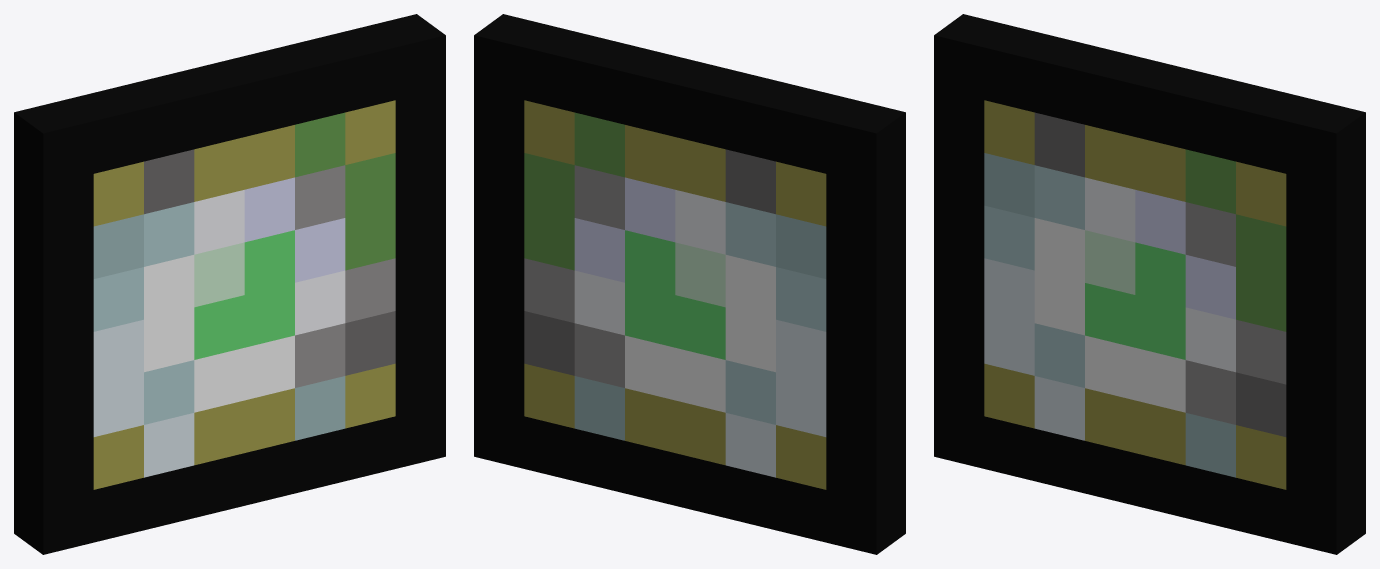
Rendered from Spirit Golem Spawner Block.glb.
3 views of the same model, side by side, from view 1: azimuth 30°, elevation 25°; view 2: azimuth 150°, elevation 25°; view 3: azimuth 330°, elevation 25° (orthographic).
Parts seen in each view (by area): view 1: generated(Clone); view 2: generated(Clone); view 3: generated(Clone).
Boxes of the visible parts, left/top/right/bottom form: generated(Clone): left=14, top=14, right=445, bottom=554; generated(Clone): left=474, top=14, right=905, bottom=554; generated(Clone): left=934, top=14, right=1365, bottom=554.
Bounding box in the file's own units: 8 × 8 × 1.
Materials: 1 (1 with a texture image).
